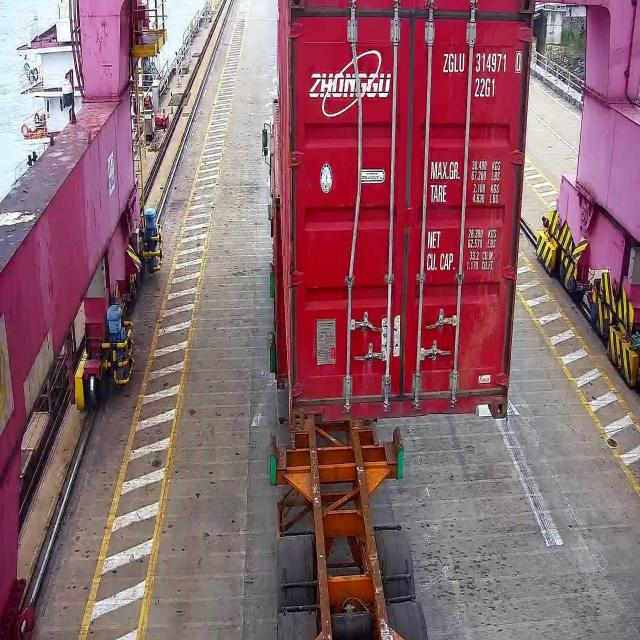dent: (342, 41, 371, 296)
